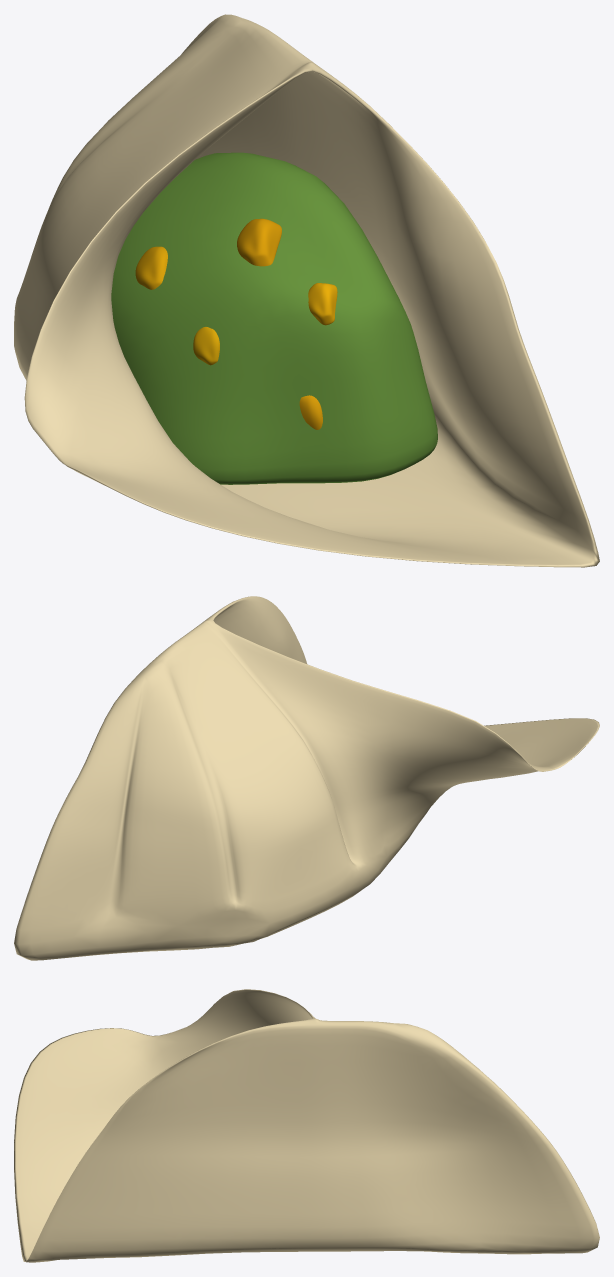
File: web_dumpling.glb
3 renders of one model, top to bottom at view 1: azimuth 30°, elevation 25°; view 2: azimuth 150°, elevation 25°; view 3: azimuth 270°, elevation 25°, orthographic. The views are drawn at different scales.
Visible parts, largest first — view 1: wrap2, pCube2_d, pCube15_d, pCube16_d, pCube18_d, pCube17_d; view 2: wrap2; view 3: wrap2.
Boxes of the visible parts, x1,y1,x2,y2 form: wrap2: [14, 14, 599, 567]; pCube2_d: [111, 152, 437, 484]; pCube15_d: [237, 218, 281, 266]; pCube16_d: [135, 246, 167, 289]; pCube18_d: [308, 283, 337, 325]; pCube17_d: [193, 327, 219, 365]; wrap2: [14, 596, 599, 960]; wrap2: [14, 989, 599, 1262].
Bounding box in the file's own units: 33.99 × 24.84 × 58.6.
